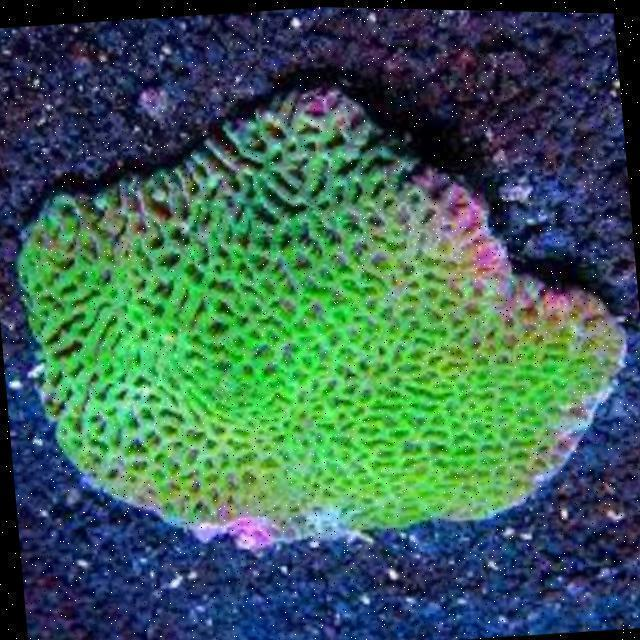Healthy Coral: (7, 93, 611, 581)
